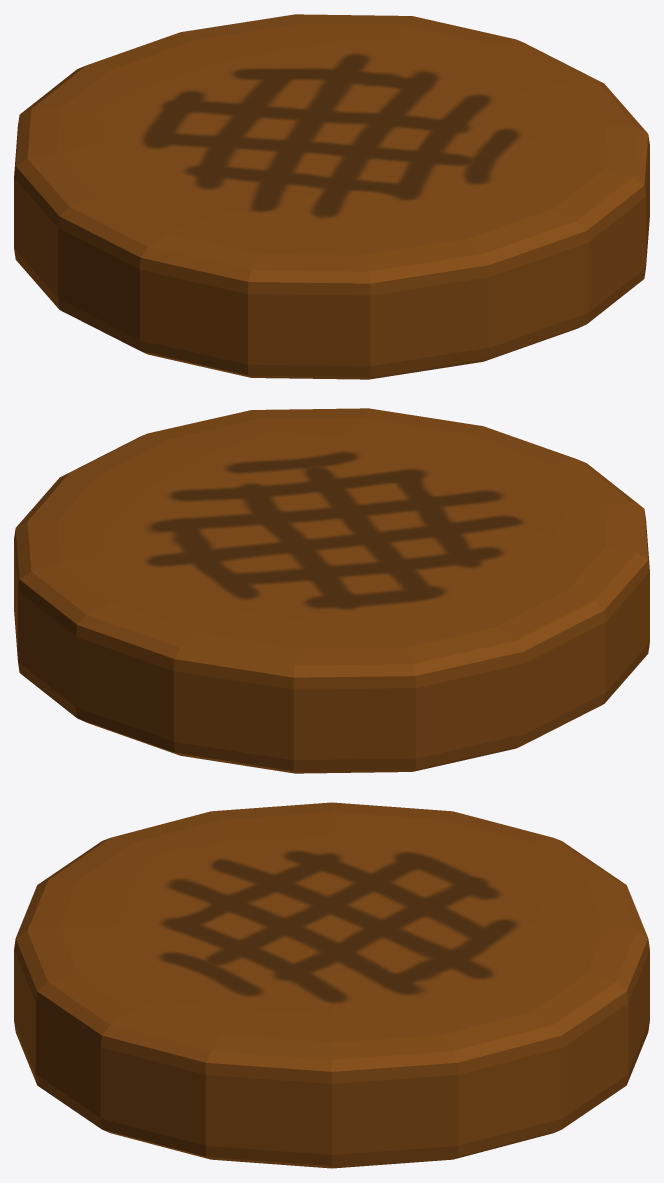
The model's file is Meat.fbx.
3 views of the same model, one above another, from view 1: azimuth 30°, elevation 25°; view 2: azimuth 150°, elevation 25°; view 3: azimuth 270°, elevation 25° (orthographic).
Parts seen in each view (by area): view 1: Meat; view 2: Meat; view 3: Meat.
Boxes of the visible parts, left/top/right/bottom form: Meat: left=14, top=14, right=649, bottom=379; Meat: left=14, top=408, right=649, bottom=773; Meat: left=14, top=802, right=649, bottom=1168.
Bounding box in the file's own units: 91.67 × 19.67 × 91.67.
